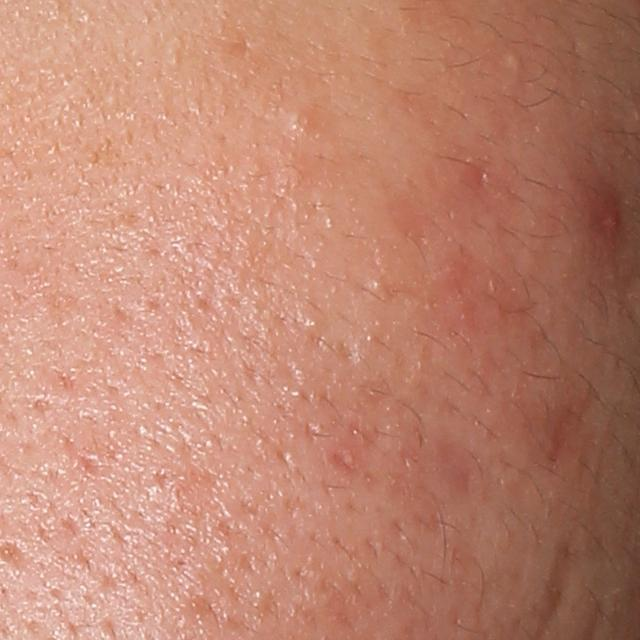comedo: (279, 100, 328, 144), (502, 47, 526, 76), (370, 277, 386, 290)
papule: (597, 201, 622, 235)
